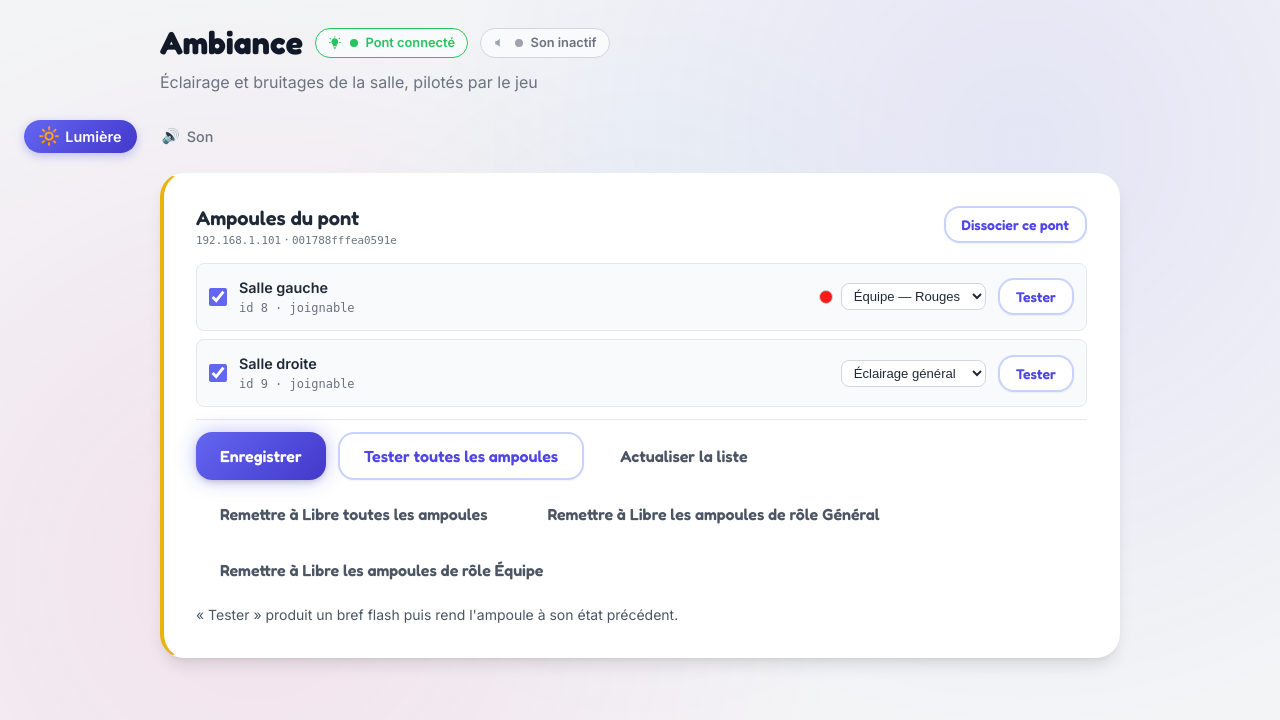
it: AmbiancePage — non-régression MAJEUR (code-reviewer) : portée indépendante des cases à cocher › décocher l'ampoule d'ÉQUIPE (sans rapport avec le bouton) puis cliquer "Général" ne l'efface PAS
The image size is (1280, 720).
Expected: the text "Salle gauche" is shown, [239,279,328,296]
Click the checkbox labelled "Salle gauche" at point(218, 297), box [209,288,227,306]
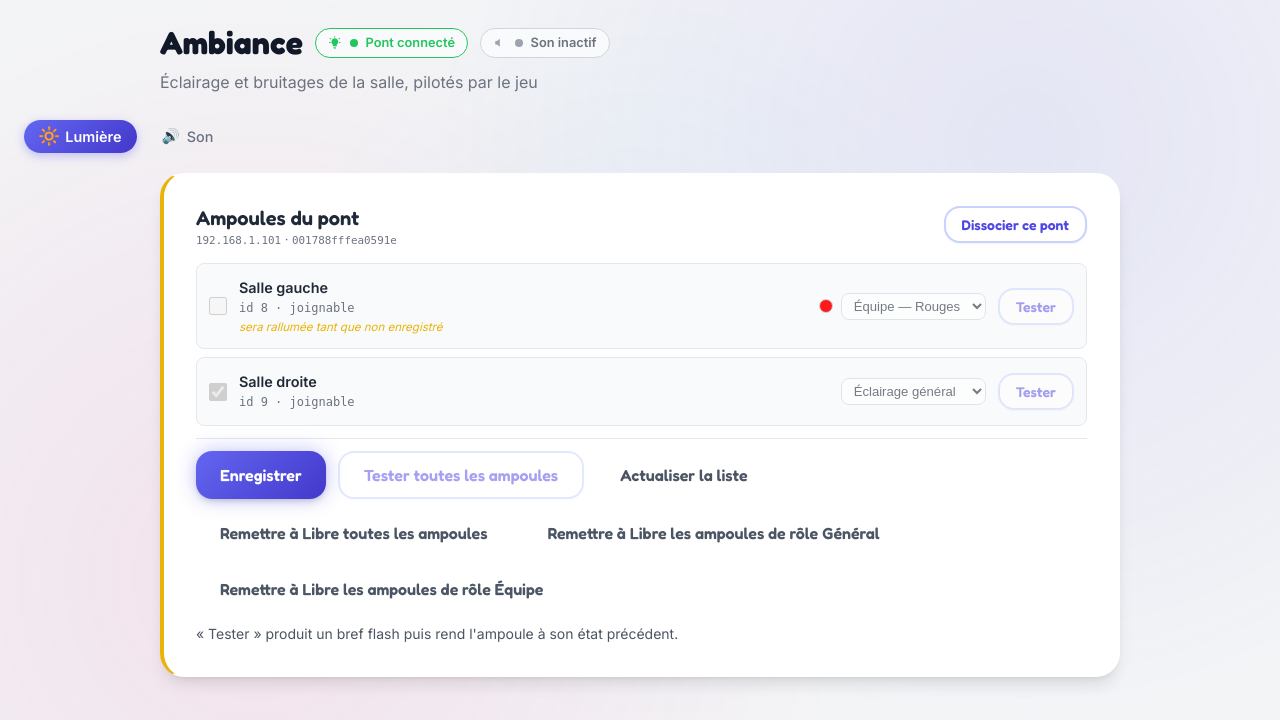
Now the checkbox labelled "Salle gauche" is not checked, box [209,297,227,315]
Click the button "Remettre à Libre les ampoules de rôle Général" at point(714, 533), box [524,511,904,555]
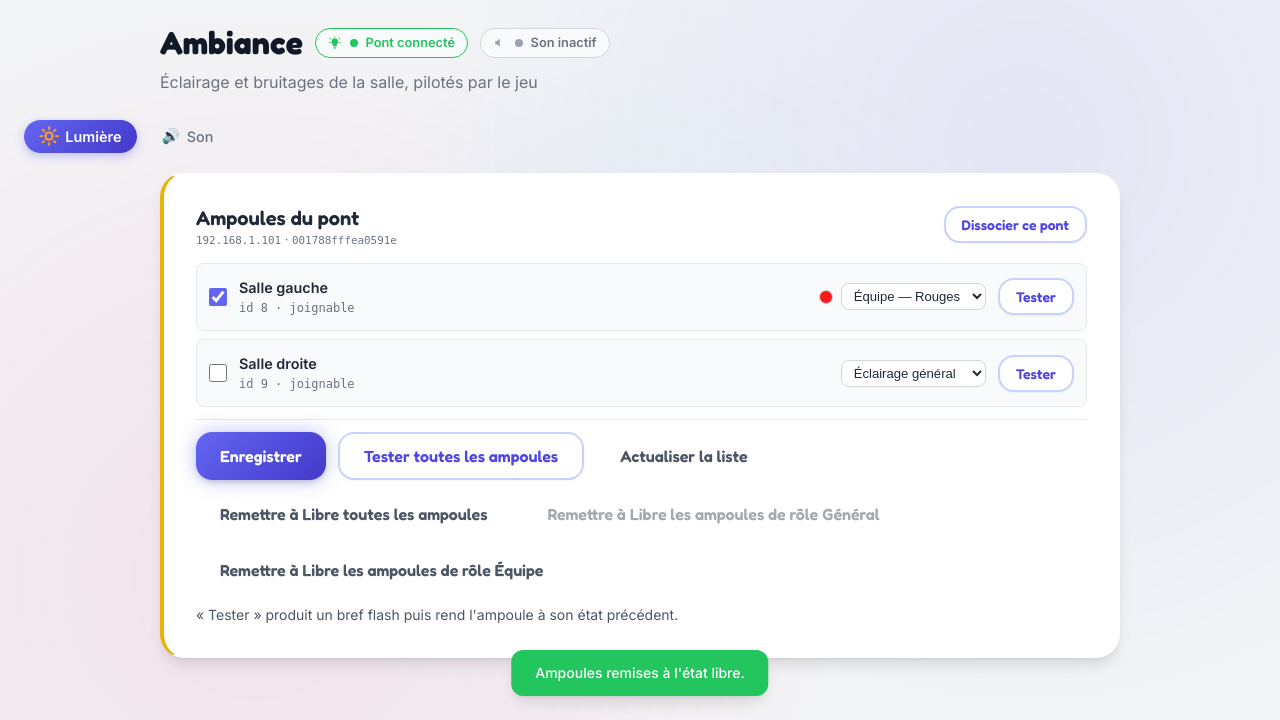
Now the text "Ampoules remises à l'état libre." is shown, box [511,650,769,696]
